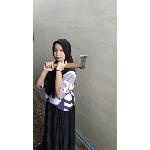Kapak: (42, 52, 92, 74)
